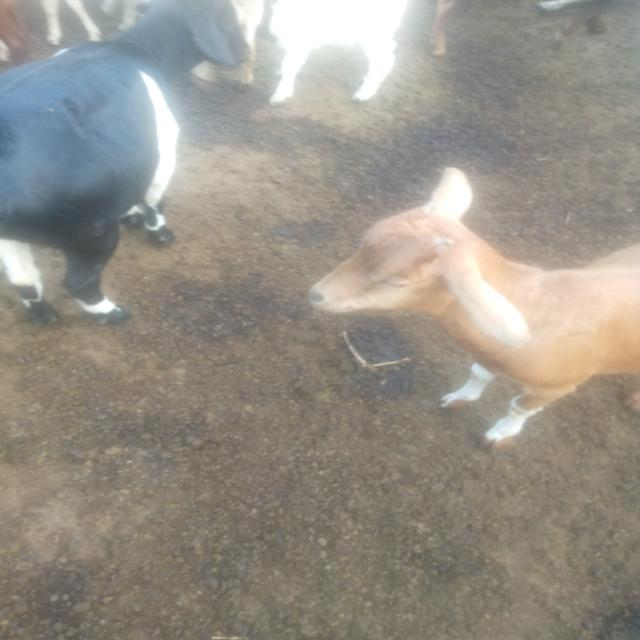goat: (251, 122, 640, 474)
